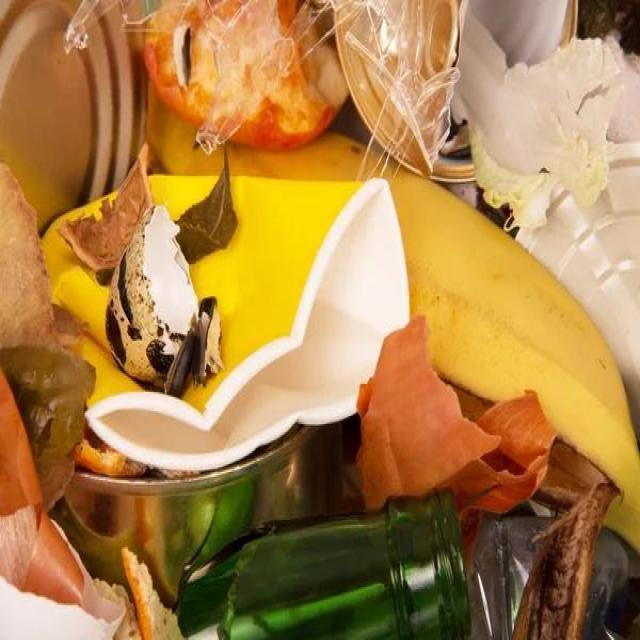Glass_bottle: (178, 489, 470, 639)
Metal: (51, 425, 341, 608), (516, 143, 640, 440), (0, 0, 146, 232)
contaminated_waste: (42, 178, 409, 471), (331, 3, 474, 180), (476, 0, 576, 60)
